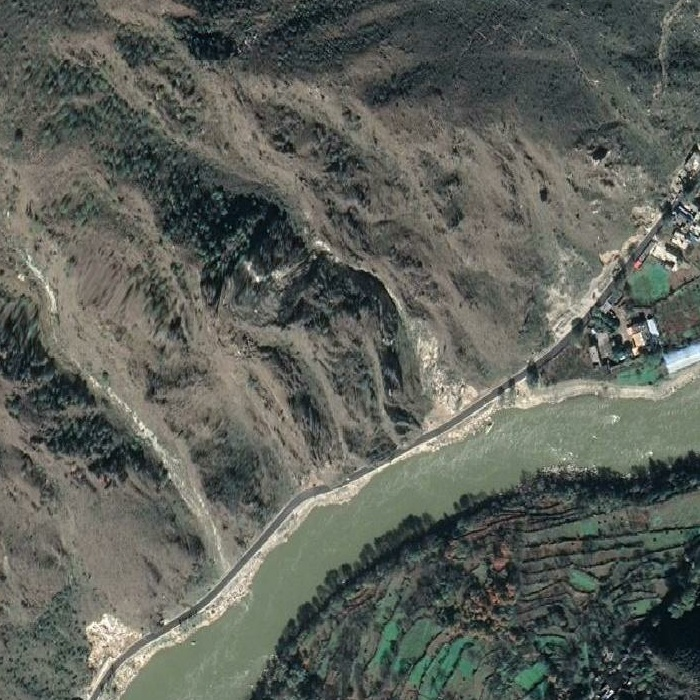slope: (544, 202, 665, 335), (407, 332, 498, 446), (83, 610, 157, 699), (271, 236, 336, 289)
